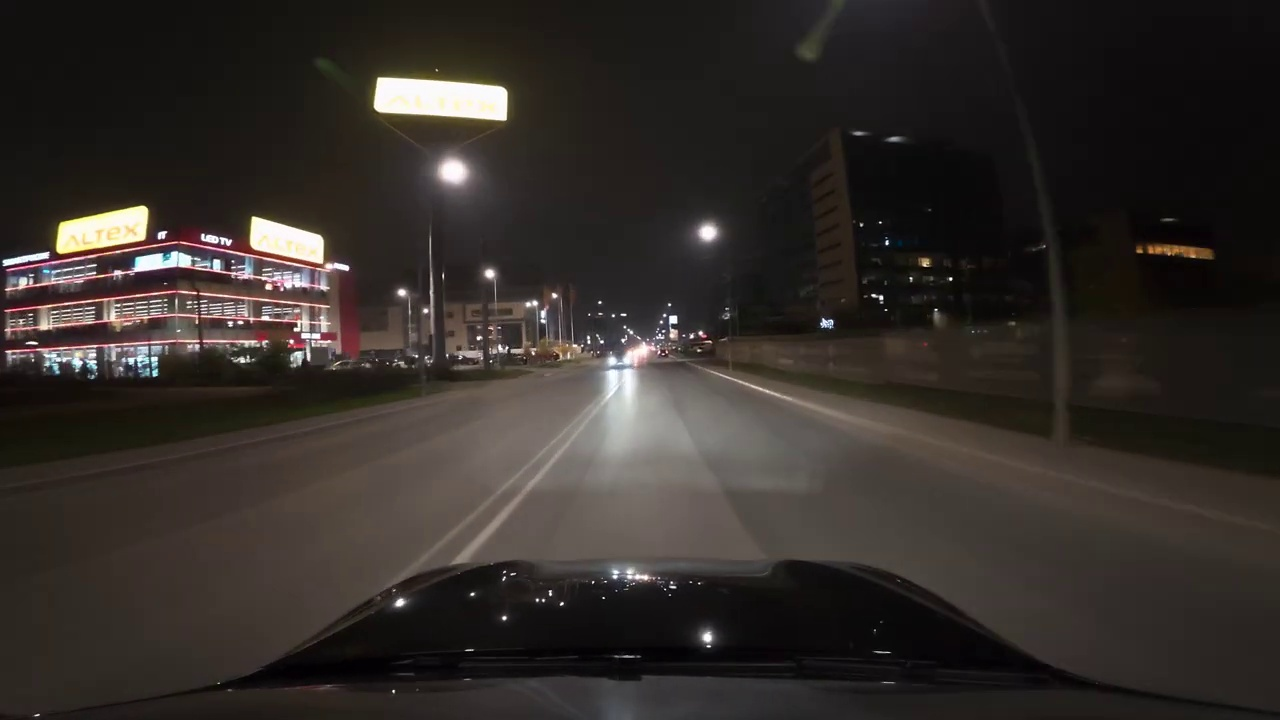acesa: (436, 158, 467, 184), (693, 220, 721, 245), (481, 265, 499, 285)
